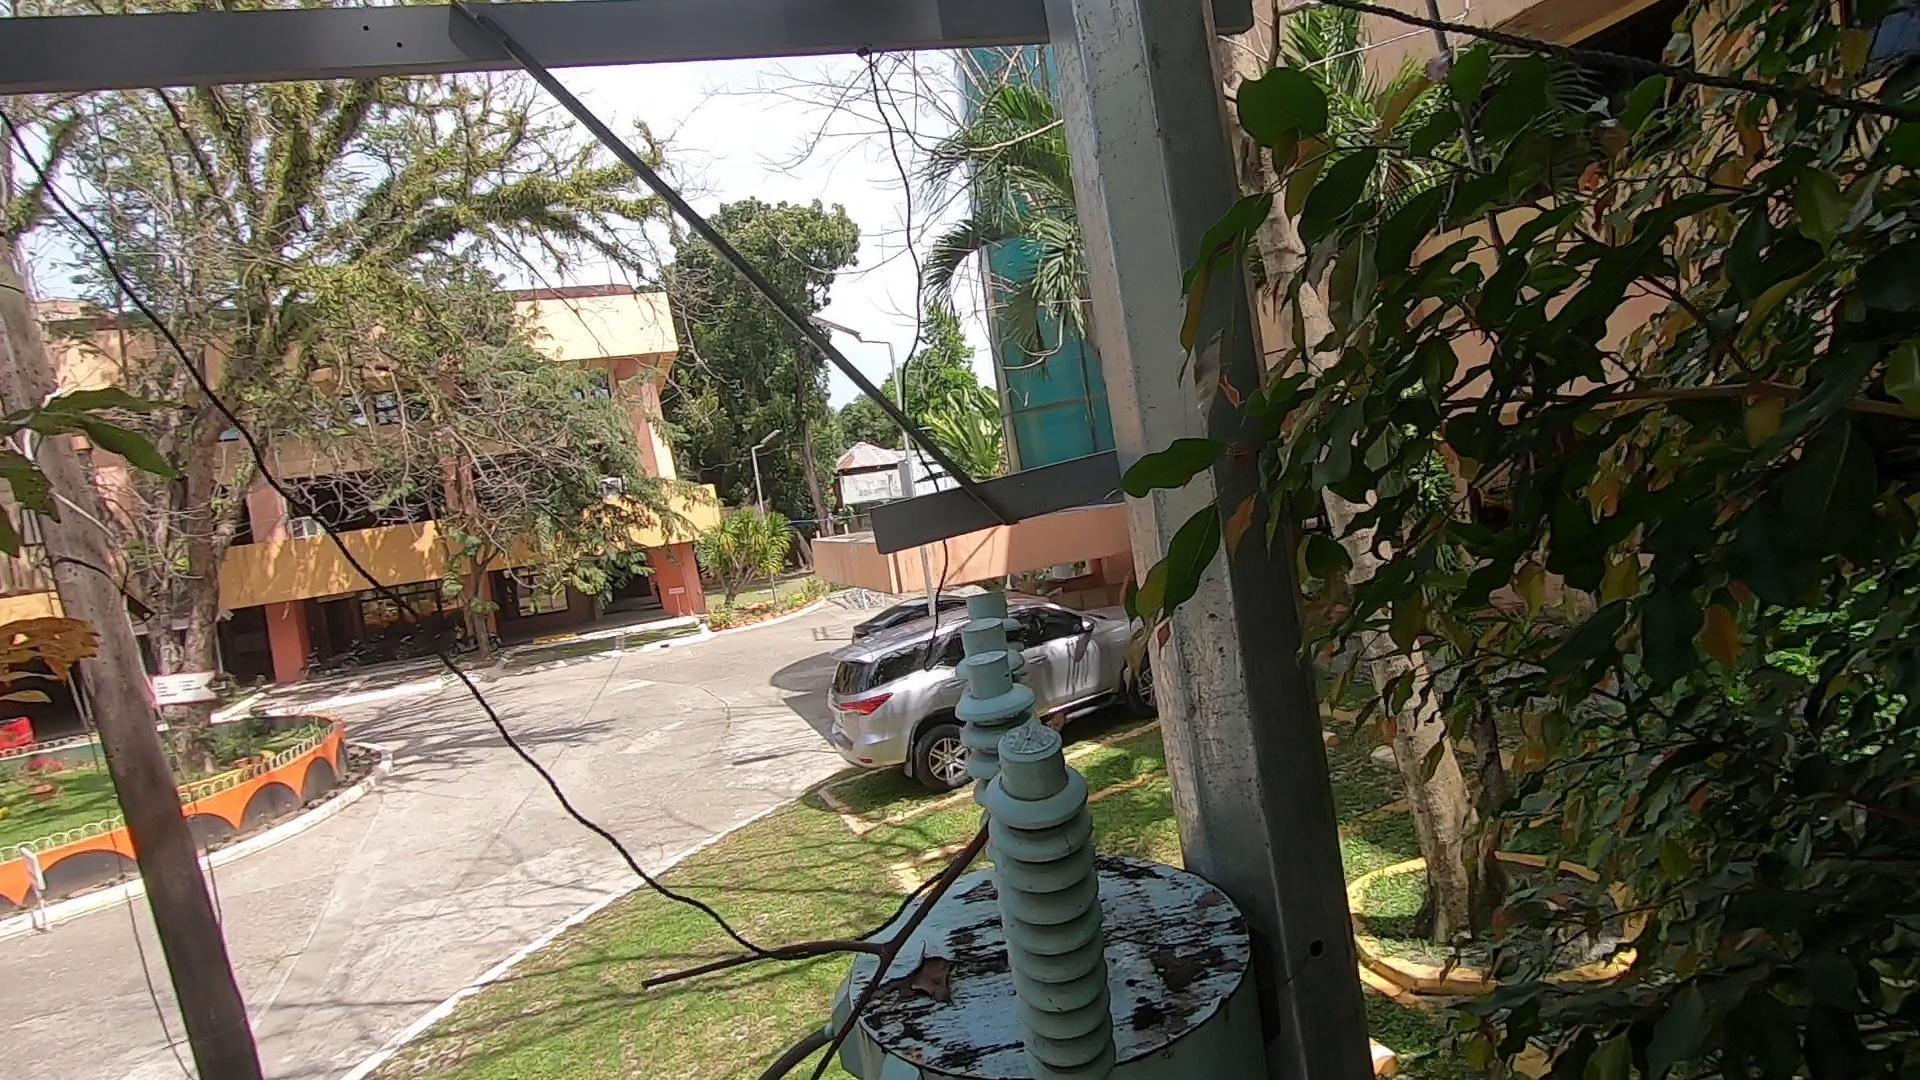leaf: (858, 949, 967, 1021)
tree branch: (613, 748, 1039, 1080)
